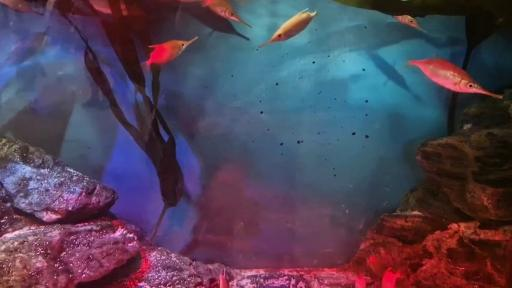Fish: (408, 55, 502, 98), (259, 8, 317, 48), (0, 27, 49, 69), (143, 37, 198, 70), (208, 0, 251, 27), (0, 0, 42, 14), (394, 15, 426, 32), (367, 255, 386, 276), (382, 268, 401, 287), (177, 0, 214, 6), (219, 269, 229, 287), (355, 275, 366, 287)
